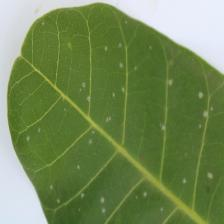red rust: (6, 2, 224, 224)
